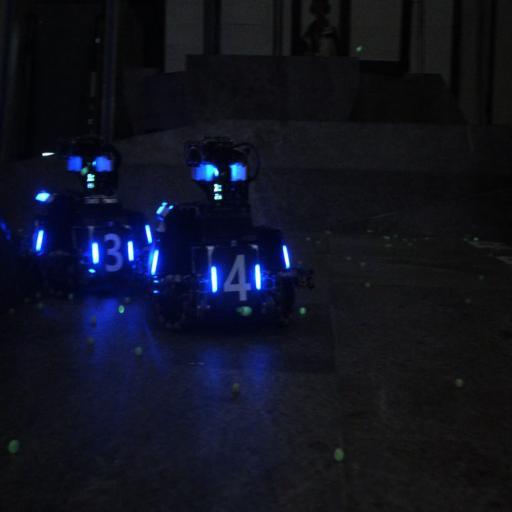target: (203, 243, 262, 307), (88, 224, 138, 283)
